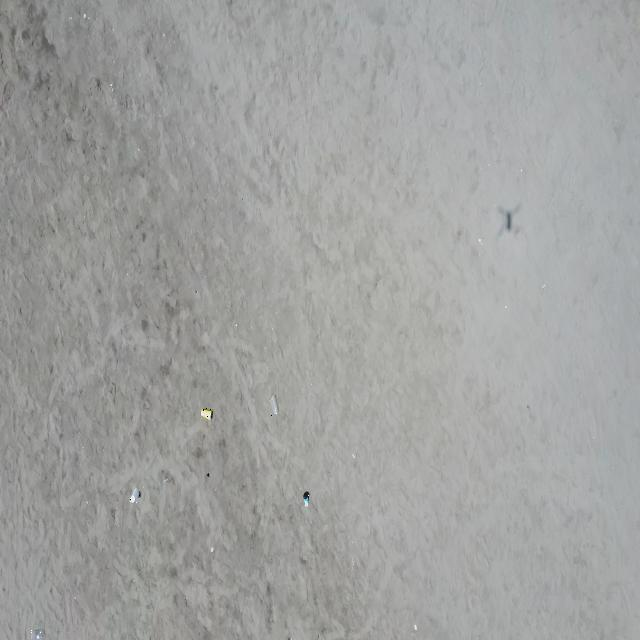takeaway-cup: (269, 394, 278, 416), (200, 408, 212, 421), (30, 628, 43, 640), (130, 489, 140, 503), (303, 492, 309, 508)
